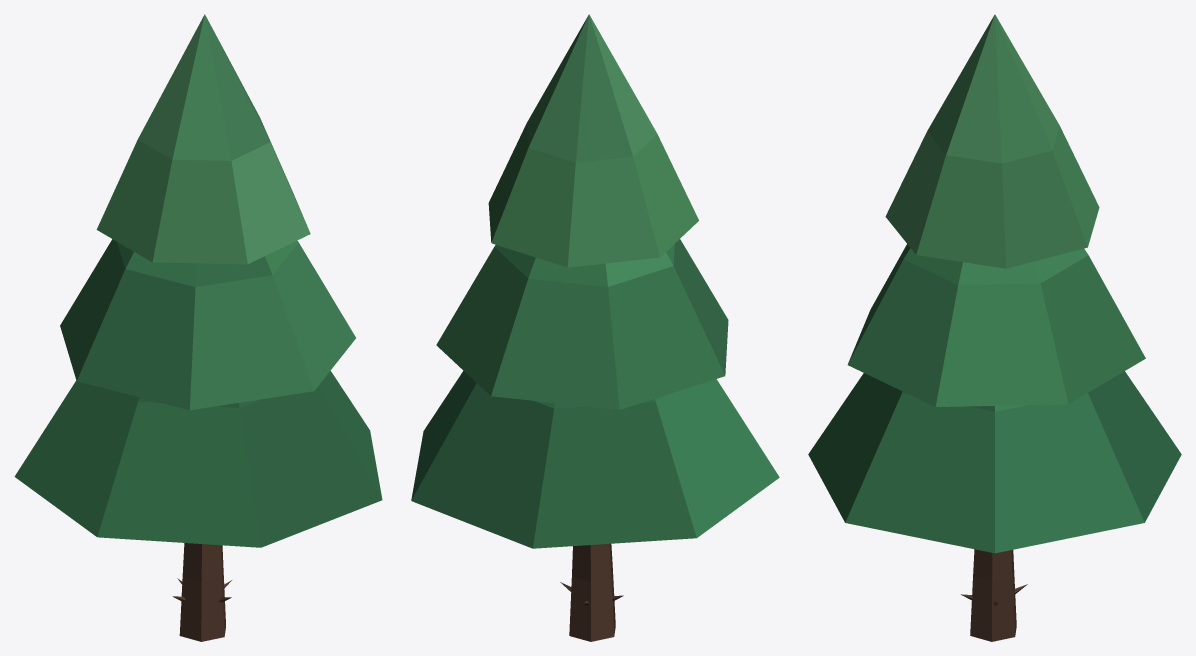
The model's file is Tree_Pine_A.fbx.
The picture shows the model from 3 angles, left to right: view 1: azimuth 30°, elevation 25°; view 2: azimuth 150°, elevation 25°; view 3: azimuth 270°, elevation 25°; orthographic projection.
Parts seen in each view (by area): view 1: Tree_Pine_A; view 2: Tree_Pine_A; view 3: Tree_Pine_A.
Part boxes in pixels (left/top/right/bottom): Tree_Pine_A: left=14, top=14, right=382, bottom=641; Tree_Pine_A: left=411, top=14, right=779, bottom=641; Tree_Pine_A: left=808, top=14, right=1181, bottom=641.
Size of the model in its own units: 2.38 by 4.45 by 2.44.
